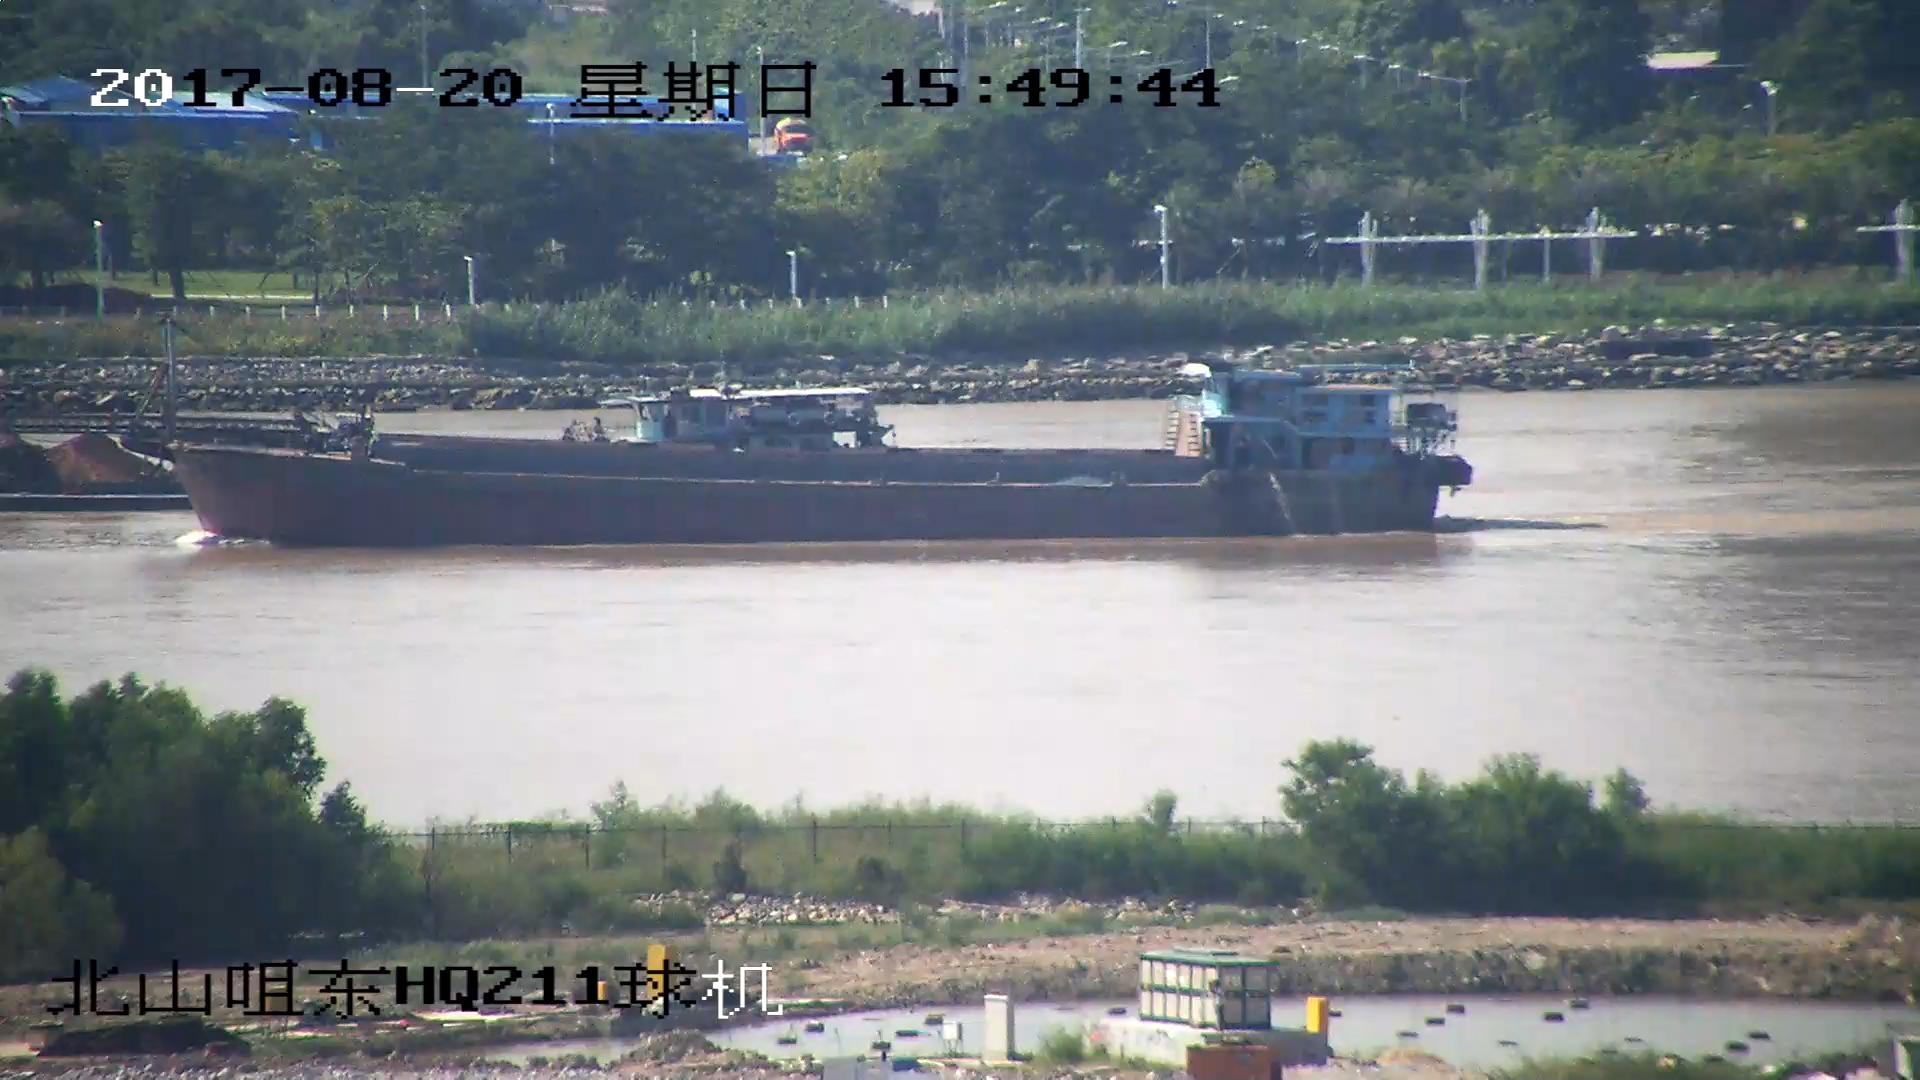bulk cargo carrier: (1, 350, 1461, 551)
ore carrier: (1, 386, 885, 509)
